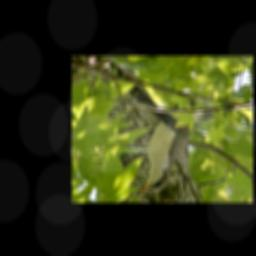Cuckoo: (136, 99, 215, 194)
